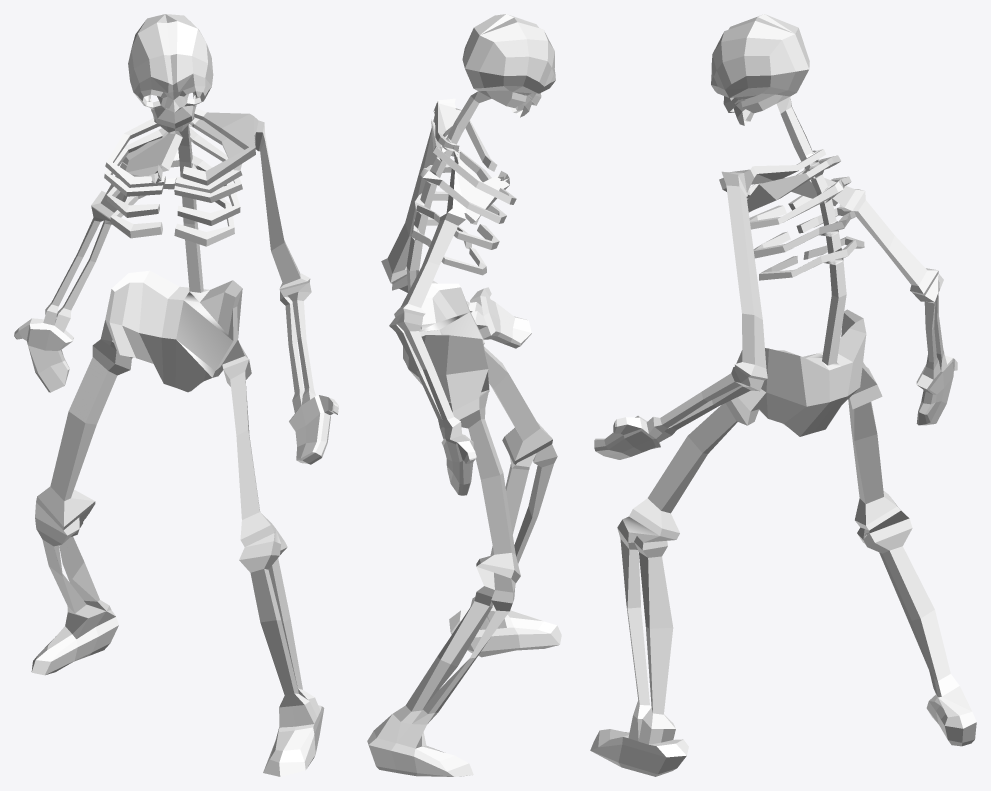
File: SkeletonIdle(94).obj
The picture shows the model from 3 angles, left to right: view 1: azimuth 30°, elevation 25°; view 2: azimuth 150°, elevation 25°; view 3: azimuth 270°, elevation 25°; orthographic projection. The views are drawn at different scales.
Parts seen in each view (by area): view 1: Object002; view 2: Object002; view 3: Object002.
Part boxes in pixels (left/top/right/bottom): Object002: left=14, top=14, right=338, bottom=776; Object002: left=367, top=14, right=561, bottom=776; Object002: left=590, top=14, right=976, bottom=776.
Size of the model in its own units: 344 by 1129 by 555.
